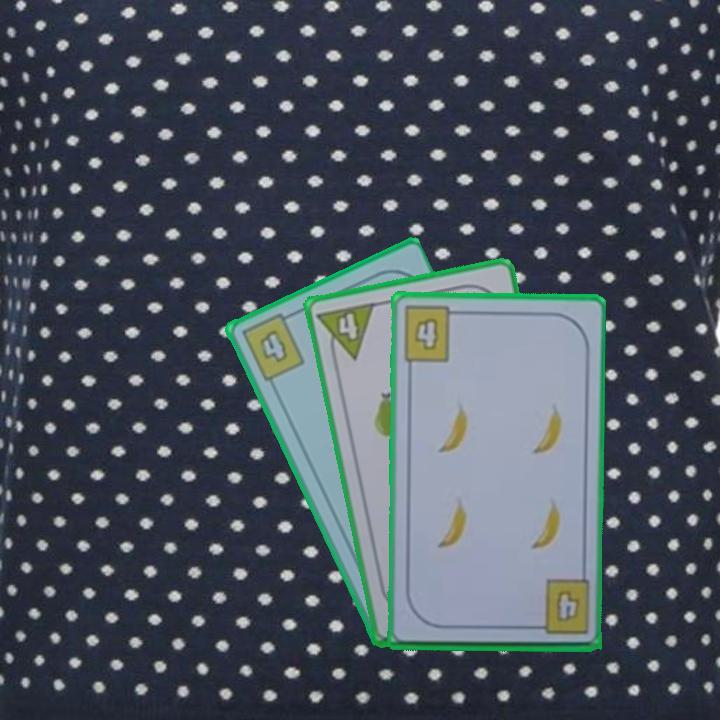4b: (237, 308, 308, 385), (527, 577, 593, 638), (399, 303, 464, 364)
4p: (313, 298, 378, 366)
